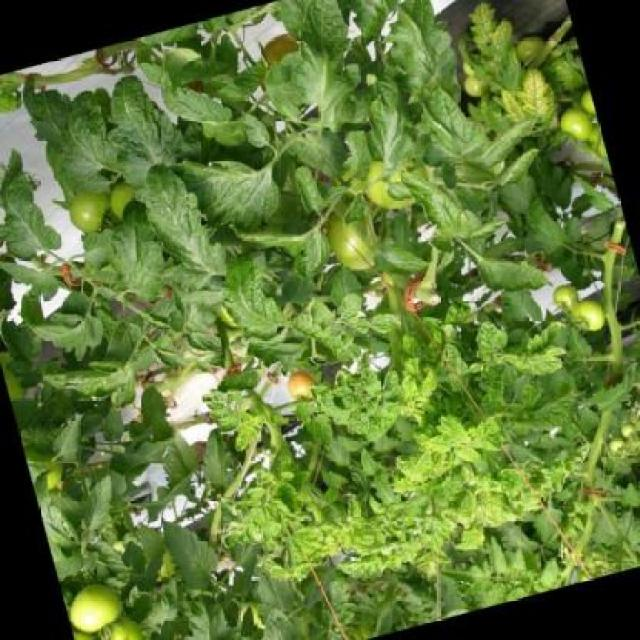Healthy Leaf: (208, 238, 300, 347), (450, 0, 529, 98), (500, 310, 574, 384), (512, 64, 562, 130), (188, 385, 246, 437), (386, 444, 443, 491), (463, 409, 519, 456), (388, 362, 428, 426), (299, 406, 341, 456), (444, 518, 490, 562), (443, 482, 485, 526), (538, 452, 574, 496), (413, 354, 449, 398), (224, 421, 264, 459), (338, 490, 372, 533), (436, 408, 470, 448), (256, 516, 284, 544)
